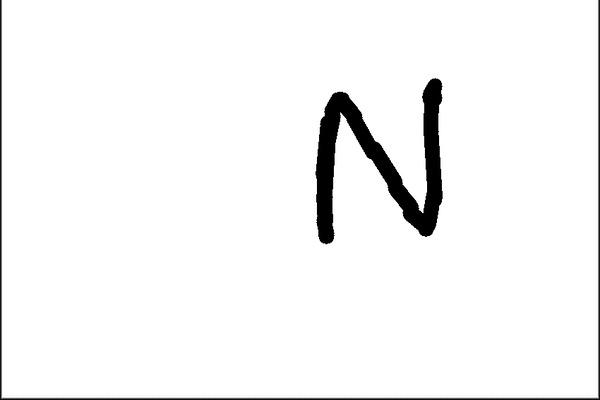N: (306, 73, 448, 248)
